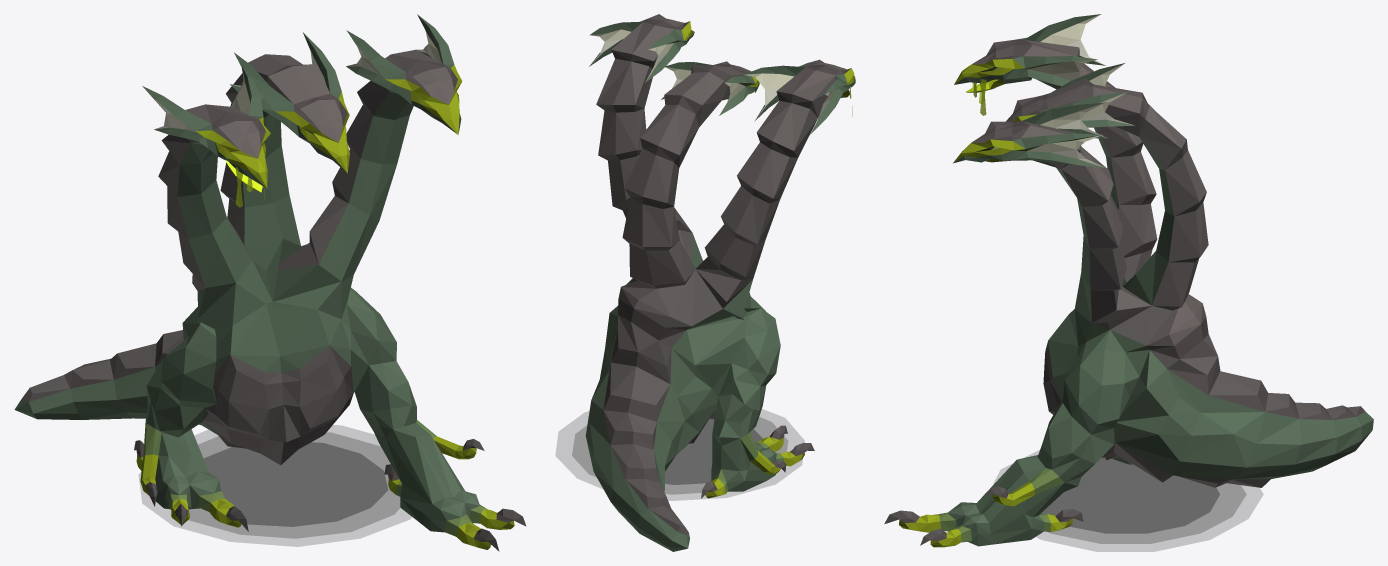
Rendered from hydra.gltf.
3 renders of one model, left to right at view 1: azimuth 30°, elevation 25°; view 2: azimuth 150°, elevation 25°; view 3: azimuth 270°, elevation 25°, orthographic. The views are drawn at different scales.
Size of the model in its own units: 515 by 778 by 830.
Materials: 2 (2 with a texture image).
